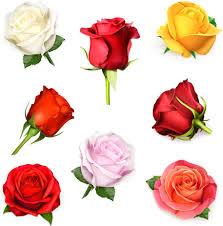Rose: (152, 157, 220, 223), (78, 129, 141, 195), (3, 159, 65, 226), (77, 12, 145, 72), (157, 0, 219, 65), (3, 3, 67, 62), (151, 79, 208, 143), (19, 86, 77, 138)
